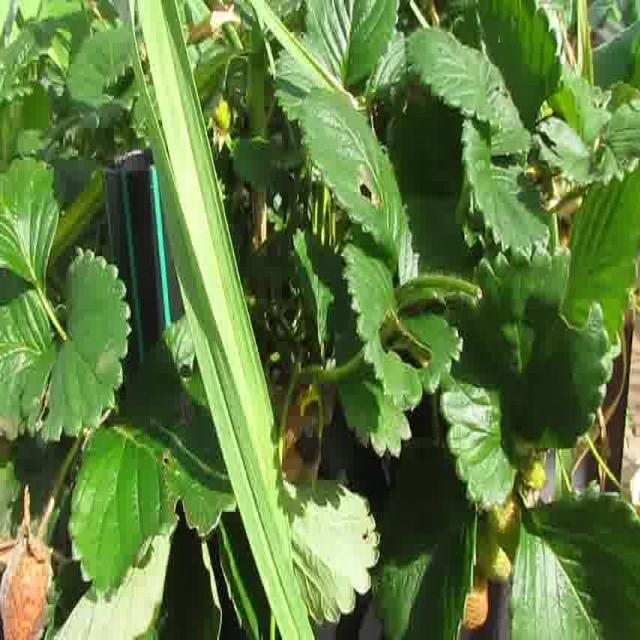Moho gris: (1, 508, 54, 640)
